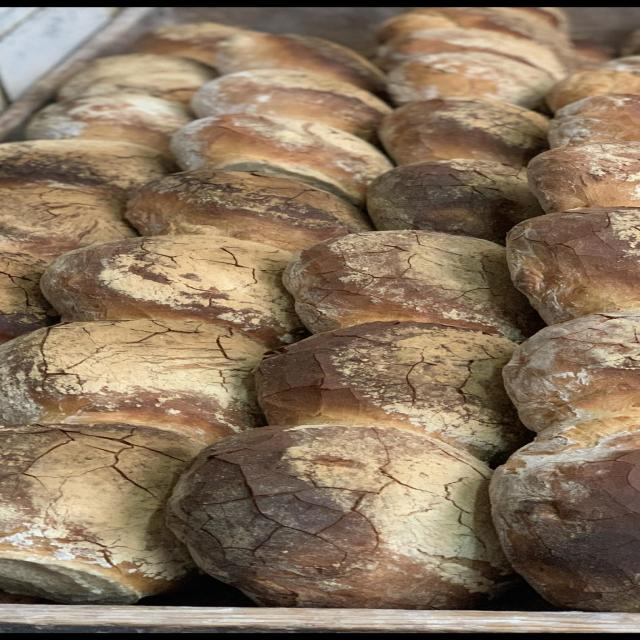Maltese-Bread: (168, 425, 513, 609), (256, 321, 525, 461), (0, 424, 202, 604), (0, 319, 282, 442), (490, 407, 639, 612), (41, 235, 300, 347), (283, 231, 539, 340), (125, 170, 370, 255), (171, 113, 391, 207), (0, 139, 166, 263), (503, 312, 639, 442), (507, 207, 639, 325), (367, 159, 542, 244), (380, 99, 548, 167), (527, 142, 639, 214), (549, 94, 639, 149)
